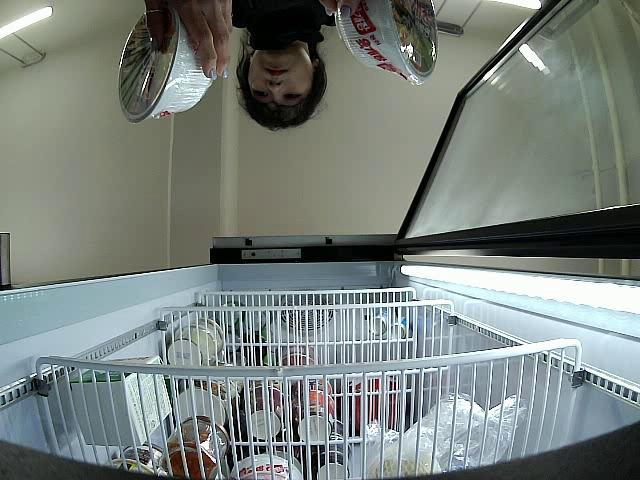00_hand: (144, 0, 234, 83)
09_yukGaeJang: (118, 5, 216, 124), (335, 0, 438, 88)
